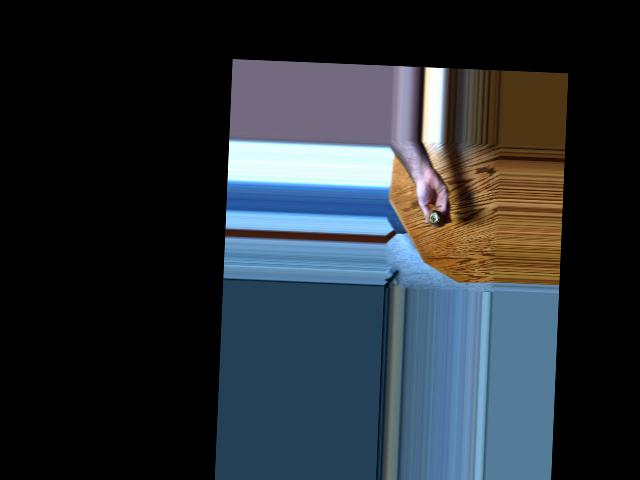sweet_potato: (424, 210, 441, 230)
